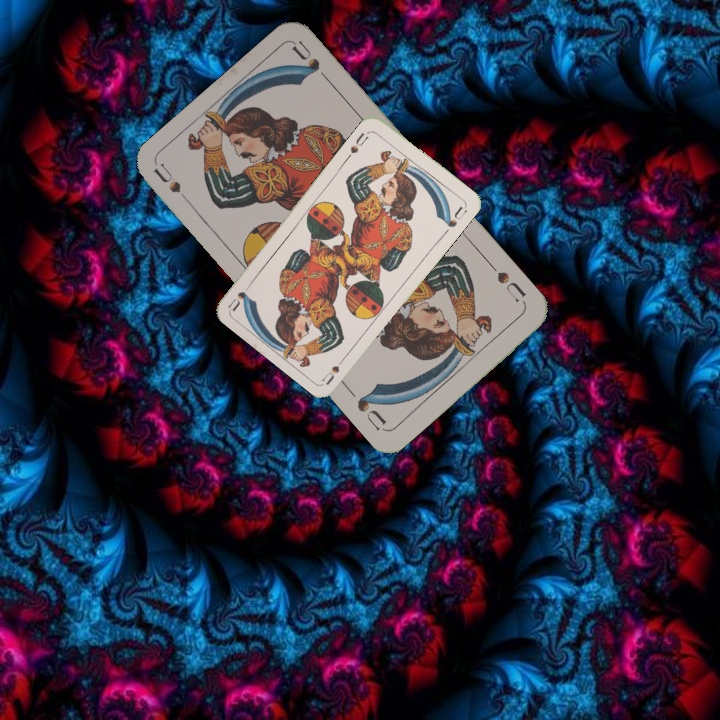SU: (150, 160, 198, 211), (485, 259, 529, 305), (318, 350, 350, 386), (346, 128, 371, 156)
